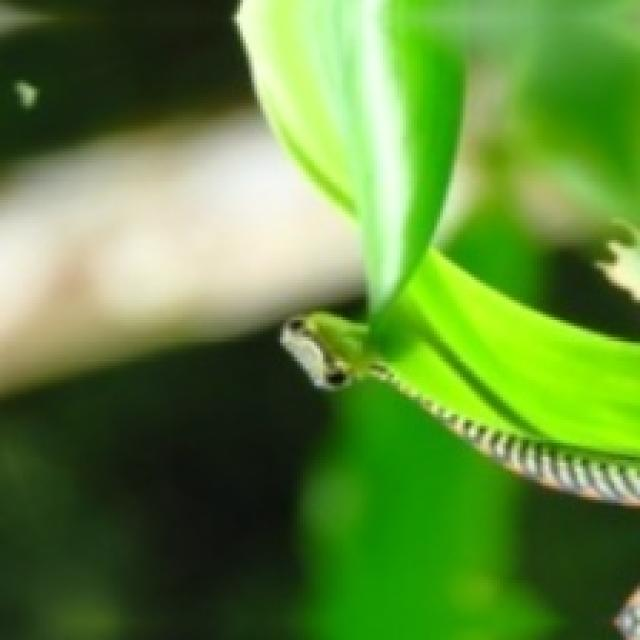paradise tree snake: (237, 0, 637, 503), (503, 3, 637, 291), (329, 417, 514, 571)
